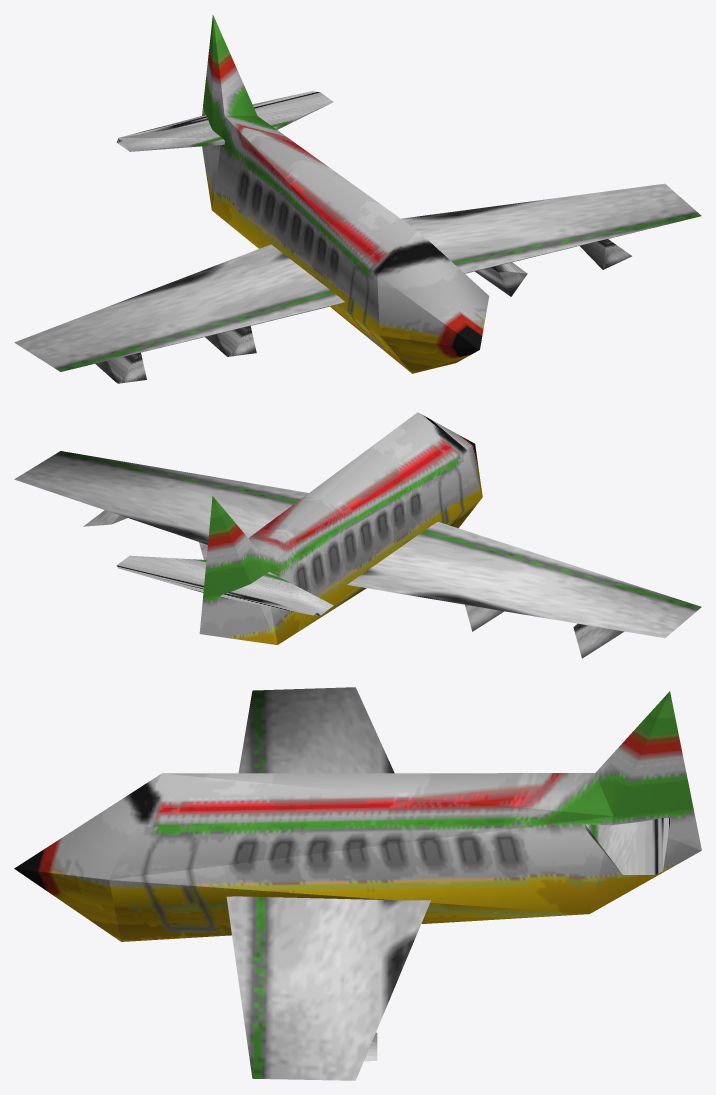
File: airplane.obj
The picture shows the model from 3 angles, top to bottom: view 1: azimuth 30°, elevation 25°; view 2: azimuth 150°, elevation 25°; view 3: azimuth 270°, elevation 25°; orthographic projection. The views are drawn at different scales.
Parts seen in each view (by area): view 1: plane_body, plane_wings, plane_backwing, plane_engine; view 2: plane_wings, plane_body, plane_backwing, plane_engine; view 3: plane_body, plane_wings, plane_backwing.
Part boxes in pixels (x1,y1,x2,y2): plane_body: [202, 15, 489, 373]; plane_wings: [14, 183, 701, 371]; plane_backwing: [116, 91, 333, 151]; plane_engine: [95, 239, 631, 383]; plane_wings: [14, 451, 701, 638]; plane_body: [199, 412, 482, 644]; plane_backwing: [116, 555, 333, 615]; plane_engine: [83, 510, 624, 658]; plane_body: [14, 691, 701, 941]; plane_wings: [226, 687, 430, 1080]; plane_backwing: [585, 818, 670, 874].
Bounding box in the file's own units: 17.82 × 5.02 × 13.16.
Materials: 4 (4 with a texture image).
